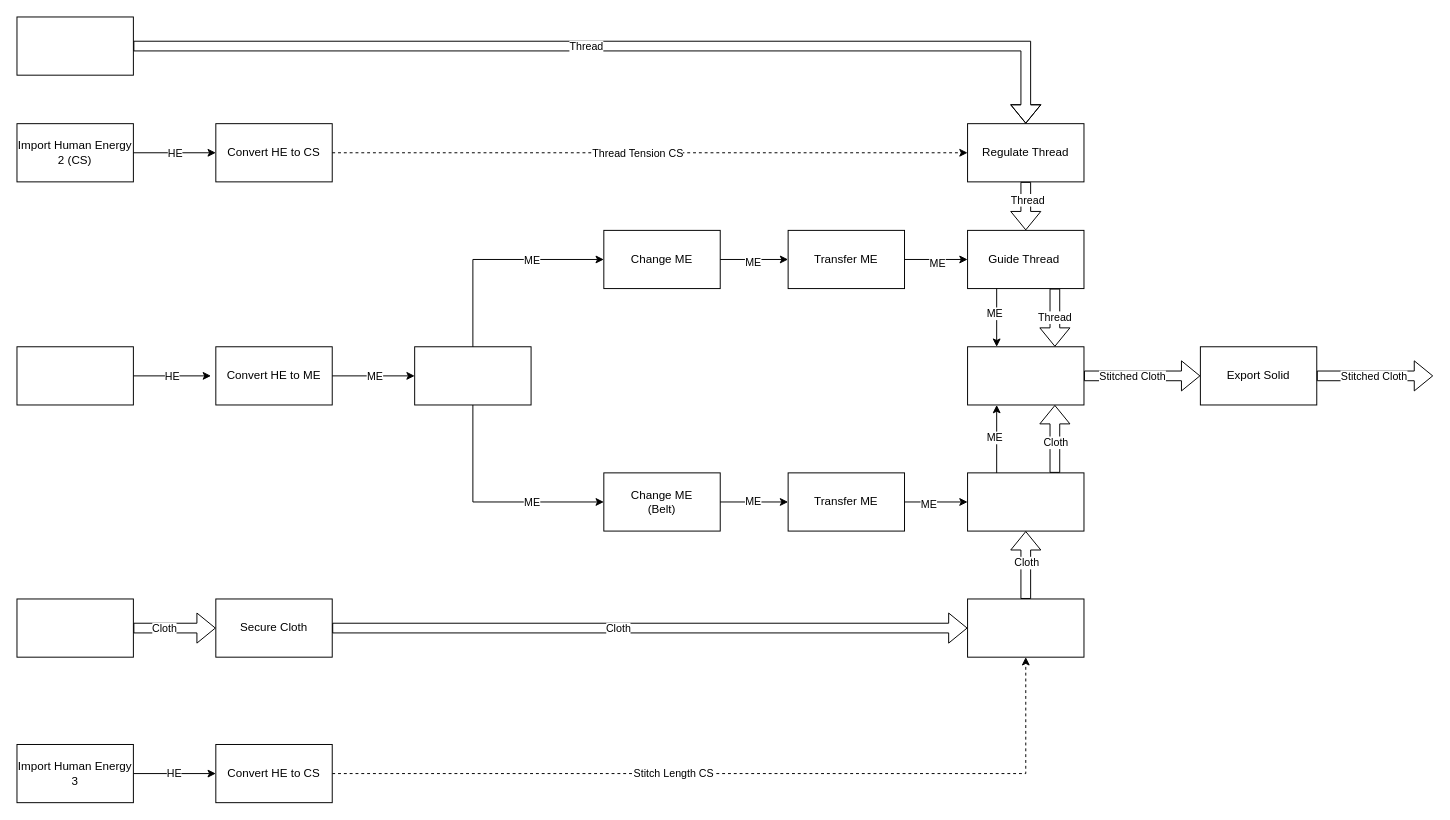
This 1450x820 diagram has some shape labels left out. Here are the shapes that lost their labels. From the top down, the box of each, then its label:
(16, 16, 133, 75): Import Thread
(16, 346, 133, 405): Import Human Energy 1 (Crank)
(414, 346, 531, 405): Distribute ME
(967, 346, 1084, 405): Couple Solids
(967, 472, 1084, 531): Guide Cloth
(16, 598, 133, 657): Import Cloth
(967, 598, 1084, 657): Regulate Cloth
